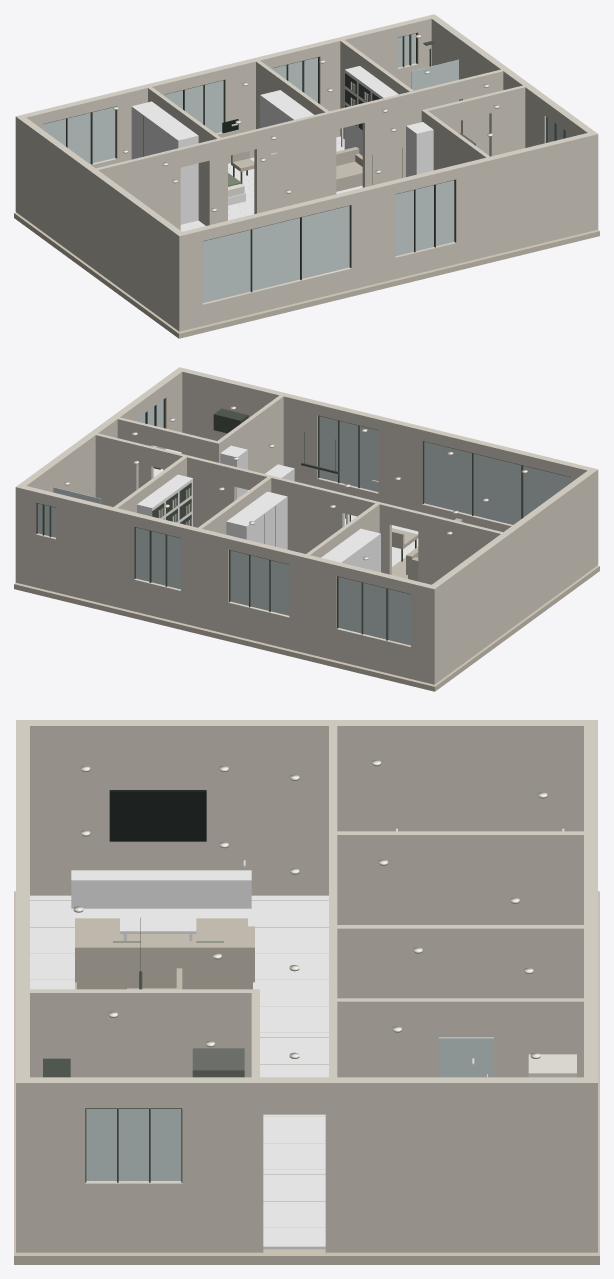
File: qimu-home.glb
3 views of the same model, one above another, from view 1: azimuth 30°, elevation 25°; view 2: azimuth 150°, elevation 25°; view 3: azimuth 270°, elevation 25° (orthographic). The views are drawn at different scales.
Visible parts, largest first — view 1: W03, W01.006, WIN01 glazing, W05.004, foundation, W05.006, W01.003, J01, W05, WIN02 glazing, W01.001, W02.009 (+37 smaller); view 2: W03, W02.009, WIN01 glazing, W01.006, W02.006, W02.003, foundation, W01.003, WIN03 glazing, W05.004, WIN02 glazing, W05 (+40 smaller); view 3: W03, W04.005, W06, R07 floor, W07, W09, W08, W04.003, W04, foundation, W04.001, J05 (+19 smaller).
Part boxes in pixels (x1=…): W03: x1=19, y1=117, x2=181, y2=328; W01.006: x1=453, y1=131, x2=598, y2=263; WIN01 glazing: x1=203, y1=206, x2=349, y2=302; W05.004: x1=254, y1=110, x2=336, y2=213; foundation: x1=14, y1=212, x2=599, y2=338; W05.006: x1=362, y1=86, x2=435, y2=187; W01.003: x1=348, y1=180, x2=395, y2=289; J01: x1=131, y1=101, x2=198, y2=224; W05: x1=96, y1=148, x2=180, y2=230; WIN02 glazing: x1=395, y1=180, x2=454, y2=255; W01.001: x1=203, y1=268, x2=351, y2=325; W02.009: x1=316, y1=24, x2=397, y2=137; W03: x1=432, y1=470, x2=594, y2=681; W02.009: x1=56, y1=494, x2=137, y2=611; WIN01 glazing: x1=424, y1=441, x2=570, y2=524; W01.006: x1=176, y1=367, x2=320, y2=486; W02.006: x1=181, y1=524, x2=231, y2=634; W02.003: x1=289, y1=551, x2=339, y2=660; foundation: x1=14, y1=565, x2=599, y2=691; W01.003: x1=378, y1=416, x2=425, y2=512; WIN03 glazing: x1=338, y1=577, x2=410, y2=645; W05.004: x1=263, y1=474, x2=344, y2=553; WIN02 glazing: x1=319, y1=416, x2=378, y2=491; W05: x1=418, y1=512, x2=502, y2=584; W03: x1=30, y1=720, x2=583, y2=895; W04.005: x1=325, y1=1077, x2=583, y2=1252; W06: x1=337, y1=831, x2=583, y2=924; R07 floor: x1=260, y1=895, x2=328, y2=1249; W07: x1=337, y1=925, x2=583, y2=998; W09: x1=30, y1=989, x2=259, y2=1077; W08: x1=337, y1=998, x2=583, y2=1077; W04.003: x1=182, y1=1077, x2=263, y2=1252; W04: x1=30, y1=1077, x2=85, y2=1252; foundation: x1=14, y1=891, x2=599, y2=1264; W04.001: x1=85, y1=1181, x2=182, y2=1252; J05: x1=71, y1=870, x2=251, y2=908.
Size of the model in its own units: 12.46 by 2.88 by 8.46.
